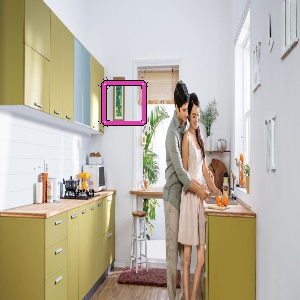square: (98, 78, 150, 127)
